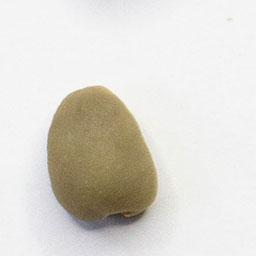peaberry: (43, 81, 162, 227)
